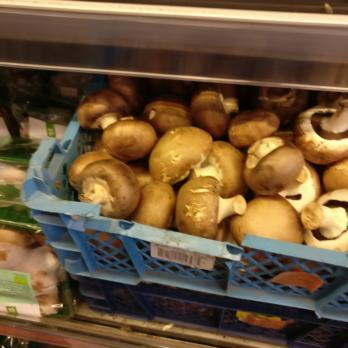Mushroom: (89, 97, 348, 227)
